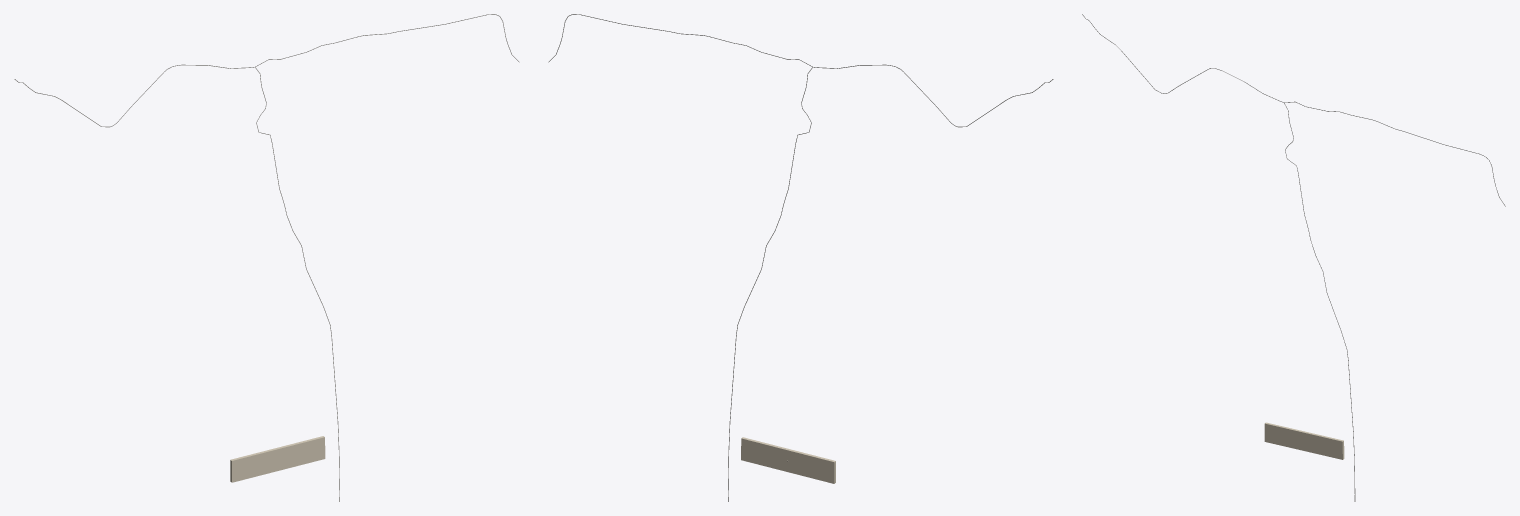
The model's file is historic-palestine-03_22_3454_3161.glb.
3 renders of one model, left to right at view 1: azimuth 30°, elevation 25°; view 2: azimuth 150°, elevation 25°; view 3: azimuth 330°, elevation 25°, orthographic. The views are drawn at different scales.
Parts seen in each view (by area): view 1: Building_, Road .001; view 2: Building_, Road .001; view 3: Building_, Road .001.
Part boxes in pixels (bbox=[...]): Building_: bbox=[230, 436, 325, 482]; Road .001: bbox=[14, 14, 519, 127]; Building_: bbox=[741, 437, 835, 483]; Road .001: bbox=[548, 14, 1053, 127]; Building_: bbox=[1264, 422, 1344, 459]; Road .001: bbox=[1082, 14, 1505, 206].
Bounding box in the file's own units: 1302 × 1237 × 8.7.
